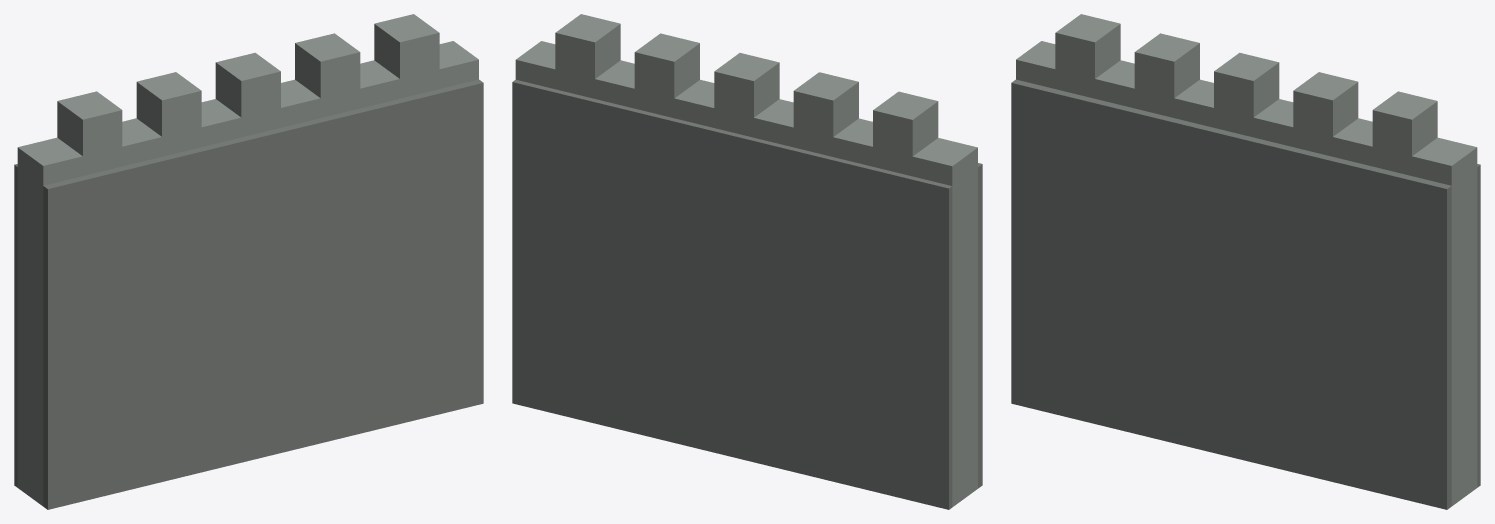
The model's file is Muralla.fbx.
The picture shows the model from 3 angles, left to right: view 1: azimuth 30°, elevation 25°; view 2: azimuth 150°, elevation 25°; view 3: azimuth 330°, elevation 25°; orthographic projection.
Parts seen in each view (by area): view 1: Muralla; view 2: Muralla; view 3: Muralla.
Boxes of the visible parts, x1=… form: Muralla: x1=14, y1=14, x2=483, y2=509; Muralla: x1=512, y1=14, x2=982, y2=509; Muralla: x1=1011, y1=14, x2=1480, y2=509.
Bounding box in the file's own units: 15 × 12.4 × 2.
